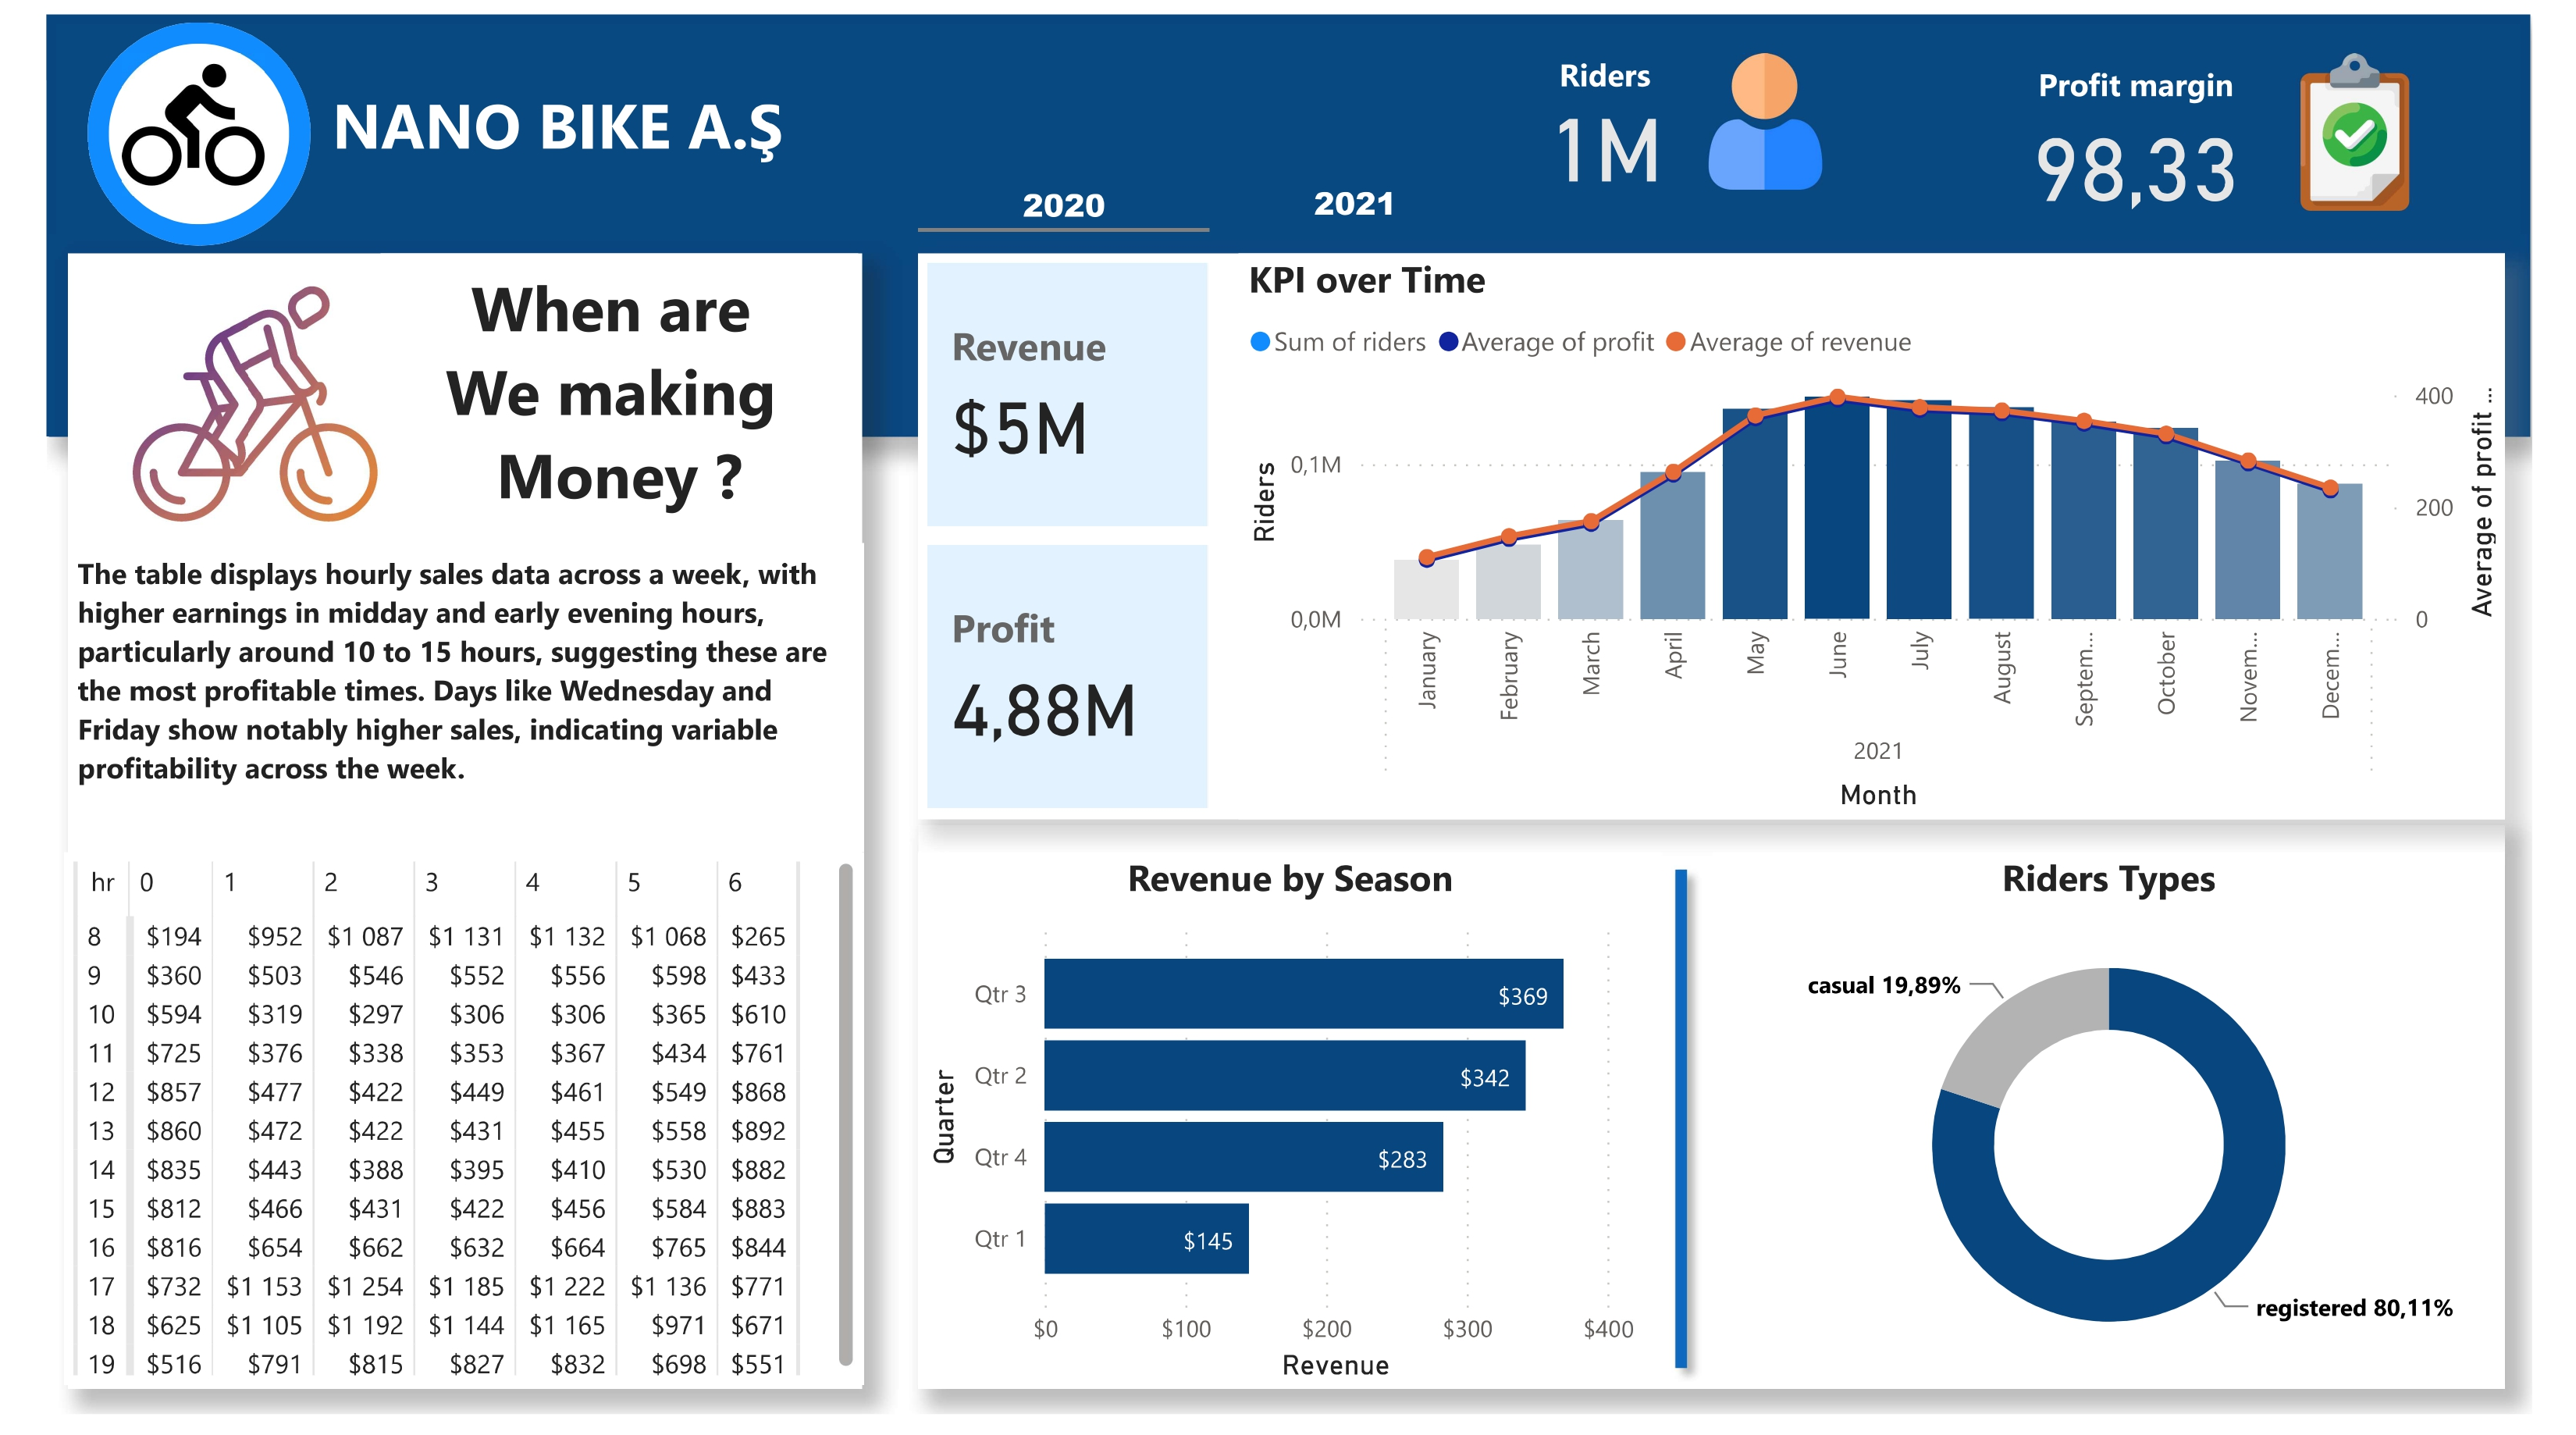

Layout of this report page (visuals, bound fields, positions):
{"tool":"powerbi","page":{"name":"Page 1","canvas":[1280,720],"ordinal":0},"visuals":[{"type":"cardVisual","fields":{"Data":["Min(Query1.yr)"]},"box":[0,0,1279.4,217.3],"z":0},{"type":"cardVisual","fields":{"Data":["Min(Query1.yr)"]},"box":[10.9,123,409.6,584],"z":1000},{"type":"cardVisual","fields":{"Data":["Min(Query1.yr)","Sum(Query1.revenue)"]},"box":[448.5,417.4,817.6,289.7],"z":2000},{"type":"pivotTable","fields":{"Values":["Avg(Query1.revenue)"],"Columns":["Query1.weekday"],"Rows":["Query1.hr"]},"box":[9.4,430.9,412,274],"z":3000},{"type":"cardVisual","fields":{"Data":["Min(Query1.yr)"]},"box":[448.5,123,817.6,291.2],"z":4000},{"type":"lineStackedColumnComboChart","title":"KPI over Time","fields":{"Category":["Query1.dteday.Variation.Date Hierarchy.Year","Query1.dteday.Variation.Date Hierarchy.Month"],"Y":["Sum(Query1.riders)"],"Y2":["Avg(Query1.profit)","Avg(Query1.revenue)"]},"box":[613.6,123,652.5,291.2],"z":5000},{"type":"donutChart","title":"Riders Types","fields":{"Category":["Query1.rider_type"],"Y":["Sum(Query1.riders)"]},"box":[858.1,431.4,408,275.6],"z":6000},{"type":"clusteredBarChart","title":"Revenue by Season","fields":{"Category":["Query1.dteday.Variation.Date Hierarchy.Quarter"],"Y":["Avg(Query1.revenue)"]},"box":[448.5,431.4,383.1,275.6],"z":7000},{"type":"shape","box":[691.5,431.4,300.6,274.1],"z":8000},{"type":"cardVisual","fields":{"Data":["Sum(Query1.revenue)","Sum(Query1.profit)"]},"box":[448.5,123,154.2,291.2],"z":9000},{"type":"cardVisual","fields":{"Data":["Sum(Query1.riders)","Query1.netProfit margin"]},"box":[707,3.1,559.1,109],"z":10000},{"type":"cardVisual","fields":{"Data":["Min(Query1.yr)"]},"box":[0,91.9,207.1,200.9],"z":11000},{"type":"advancedSlicerVisual","fields":{"Values":["Query1.Year"]},"box":[448.5,71.6,300.6,40.5],"z":12000},{"type":"textbox","box":[172,122.8,245.7,149.3],"z":13000},{"type":"textbox","box":[11.3,272.1,410.1,158.7],"z":14000},{"type":"shape","box":[20.8,3.8,115.3,115.3],"z":15000},{"type":"image","box":[34,13.2,83.2,86.9],"z":16000},{"type":"textbox","box":[147.4,34,253.2,43.5],"z":17000}]}

Visuals, with their boxes in screenshot pixels (x1, y1, x2, y2), scaled from the page's 1280x720 canvas onto the 2576x1435 screenshot:
cardVisual - Min(Query1.yr): select_region(0, 0, 2574, 433)
cardVisual - Min(Query1.yr): select_region(22, 245, 846, 1409)
cardVisual - Min(Query1.yr) x Sum(Query1.revenue): select_region(902, 832, 2548, 1409)
pivotTable - Avg(Query1.revenue) x Query1.weekday: select_region(19, 859, 848, 1405)
cardVisual - Min(Query1.yr): select_region(902, 245, 2548, 825)
"KPI over Time" lineStackedColumnComboChart: select_region(1235, 245, 2548, 825)
"Riders Types" donutChart: select_region(1727, 860, 2548, 1409)
"Revenue by Season" clusteredBarChart: select_region(902, 860, 1674, 1409)
shape: select_region(1392, 860, 1997, 1406)
cardVisual - Sum(Query1.revenue) x Sum(Query1.profit): select_region(902, 245, 1213, 825)
cardVisual - Sum(Query1.riders) x Query1.netProfit margin: select_region(1423, 6, 2548, 223)
cardVisual - Min(Query1.yr): select_region(0, 183, 417, 583)
advancedSlicerVisual - Query1.Year: select_region(902, 143, 1507, 223)
textbox: select_region(346, 244, 841, 543)
textbox: select_region(23, 543, 848, 859)
shape: select_region(42, 8, 274, 237)
image: select_region(69, 27, 236, 200)
textbox: select_region(297, 68, 806, 155)
